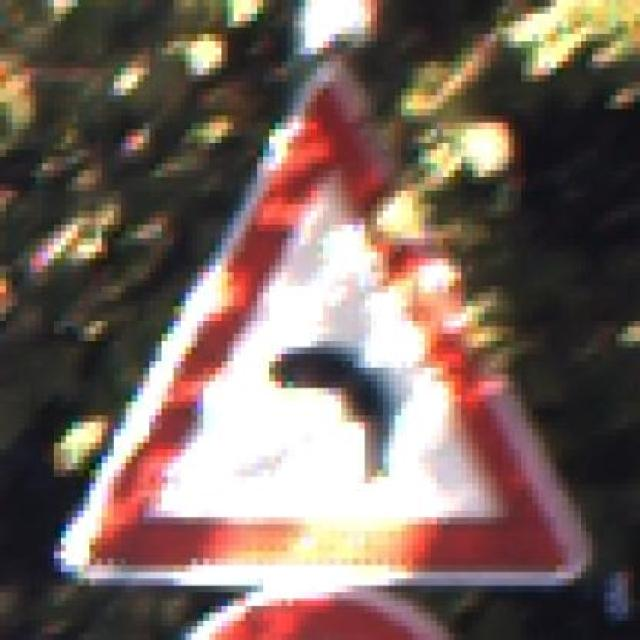Dangerous Left Curve Ahead: (30, 54, 604, 592)
